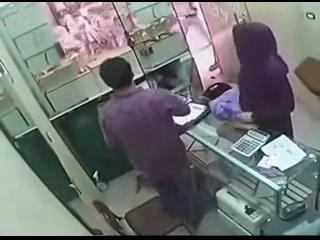Normal: (98, 56, 208, 227), (232, 21, 295, 138), (230, 128, 271, 158)
